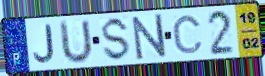2: (207, 8, 235, 56)
C: (171, 14, 205, 55)
J: (32, 22, 57, 65)
N: (130, 12, 169, 62)
S: (101, 15, 132, 63)
U: (59, 18, 95, 67)
